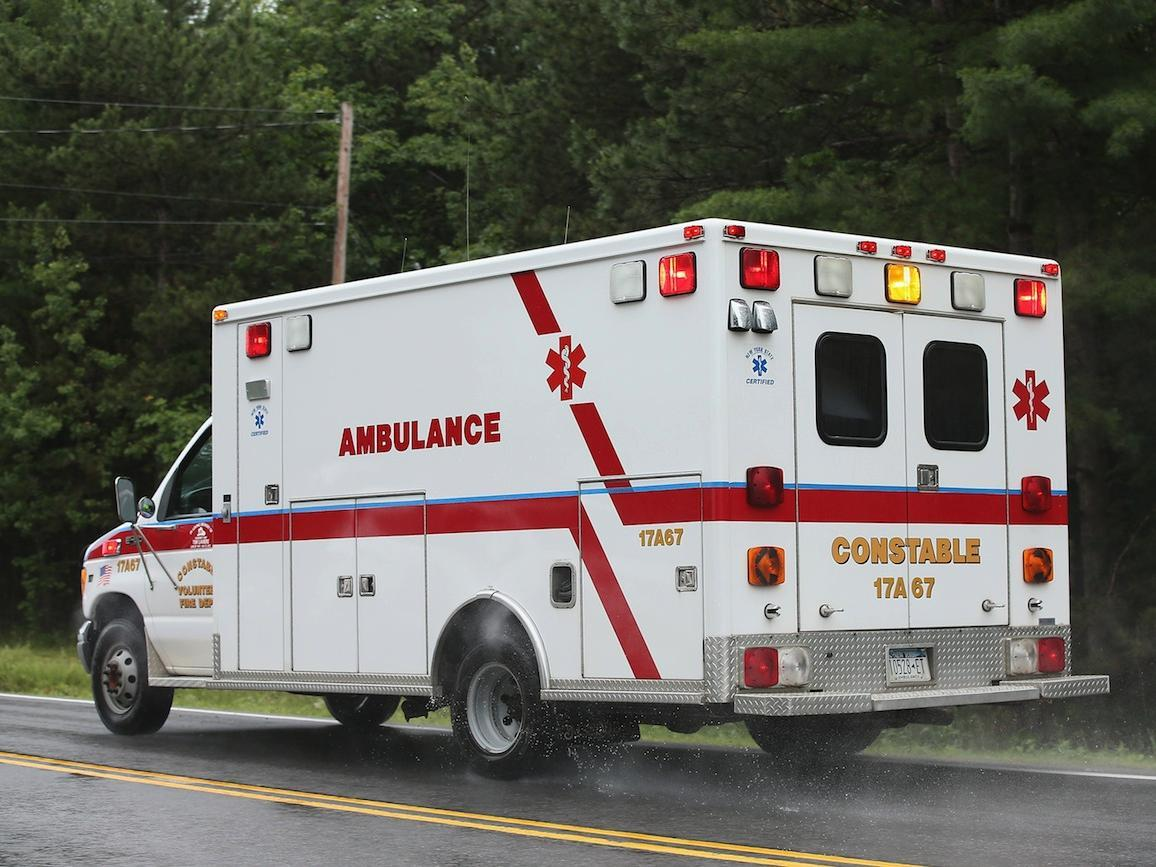Ambulance: (1005, 368, 1060, 435)
